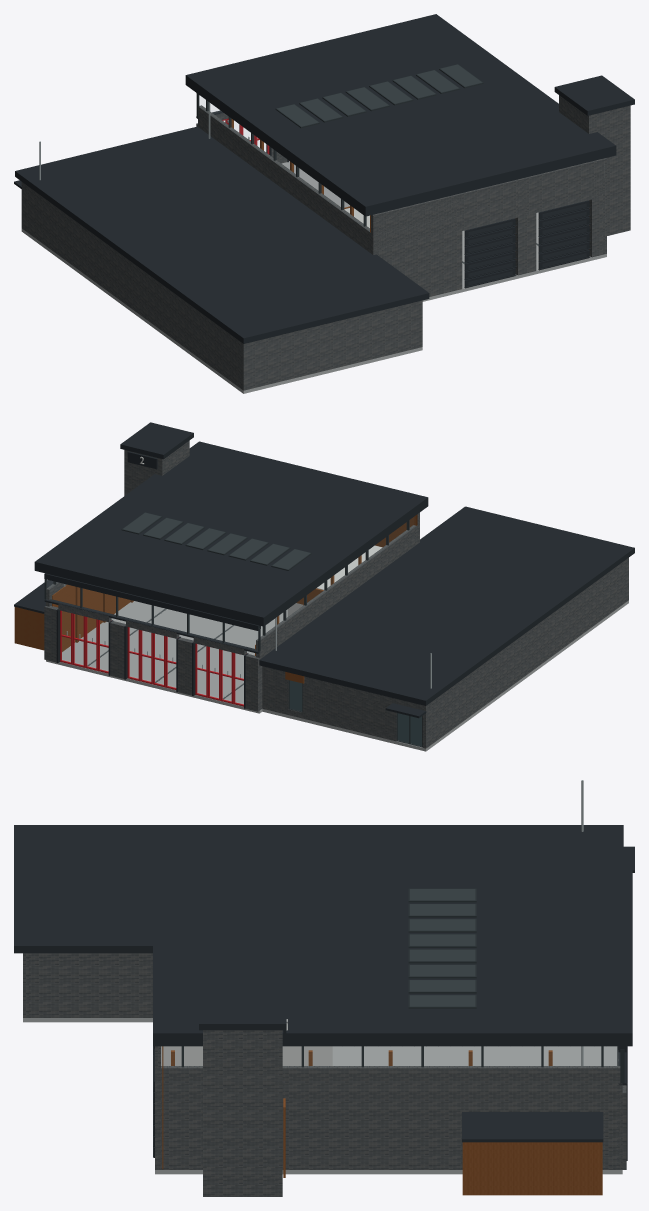
Rendered from station2.glb.
3 views of the same model, one above another, from view 1: azimuth 30°, elevation 25°; view 2: azimuth 150°, elevation 25°; view 3: azimuth 270°, elevation 25° (orthographic). The views are drawn at different scales.
Parts seen in each view (by area): view 1: Static_Fascia__graphite_metal, Static_Masonry__charcoal-grey_running_bond, Static_Window_frames__black_anodized, Static_Slab__polished_concrete; view 2: Static_Fascia__graphite_metal, Static_Masonry__charcoal-grey_running_bond, Static_Slab__polished_concrete, Static_Window_frames__black_anodized, Static_Interior__honey_glulam_and_CLT, Static_Exterior__vertical_honey_timber, Static_Wing_glazing__smoked_grey, Static_Interior__service_wall; view 3: Static_Fascia__graphite_metal, Static_Masonry__charcoal-grey_running_bond, Static_Window_frames__black_anodized, Static_Exterior__vertical_honey_timber, Static_Slab__polished_concrete, Static_Interior__service_wall, Static_Interior__honey_glulam_and_CLT.
Boxes of the visible parts, <box> form: Static_Fascia__graphite_metal: <box>14,14,634,343</box>; Static_Masonry__charcoal-grey_running_bond: <box>21,95,630,390</box>; Static_Window_frames__black_anodized: <box>196,64,483,226</box>; Static_Slab__polished_concrete: <box>21,161,606,393</box>; Static_Fascia__graphite_metal: <box>14,422,634,718</box>; Static_Masonry__charcoal-grey_running_bond: <box>44,440,628,748</box>; Static_Slab__polished_concrete: <box>46,600,628,751</box>; Static_Window_frames__black_anodized: <box>44,512,422,747</box>; Static_Interior__honey_glulam_and_CLT: <box>52,514,417,655</box>; Static_Exterior__vertical_honey_timber: <box>14,607,304,683</box>; Static_Wing_glazing__smoked_grey: <box>289,680,421,746</box>; Static_Interior__service_wall: <box>140,456,382,616</box>; Static_Fascia__graphite_metal: <box>14,825,634,1160</box>; Static_Masonry__charcoal-grey_running_bond: <box>23,953,626,1196</box>; Static_Window_frames__black_anodized: <box>181,888,624,1083</box>; Static_Exterior__vertical_honey_timber: <box>283,1098,602,1195</box>; Static_Slab__polished_concrete: <box>23,1018,622,1174</box>; Static_Interior__service_wall: <box>161,1019,332,1065</box>; Static_Interior__honey_glulam_and_CLT: <box>162,1046,552,1169</box>.
Bounding box in the file's own units: 35.48 × 9.9 × 31.08.
12 materials, 3 textured.
